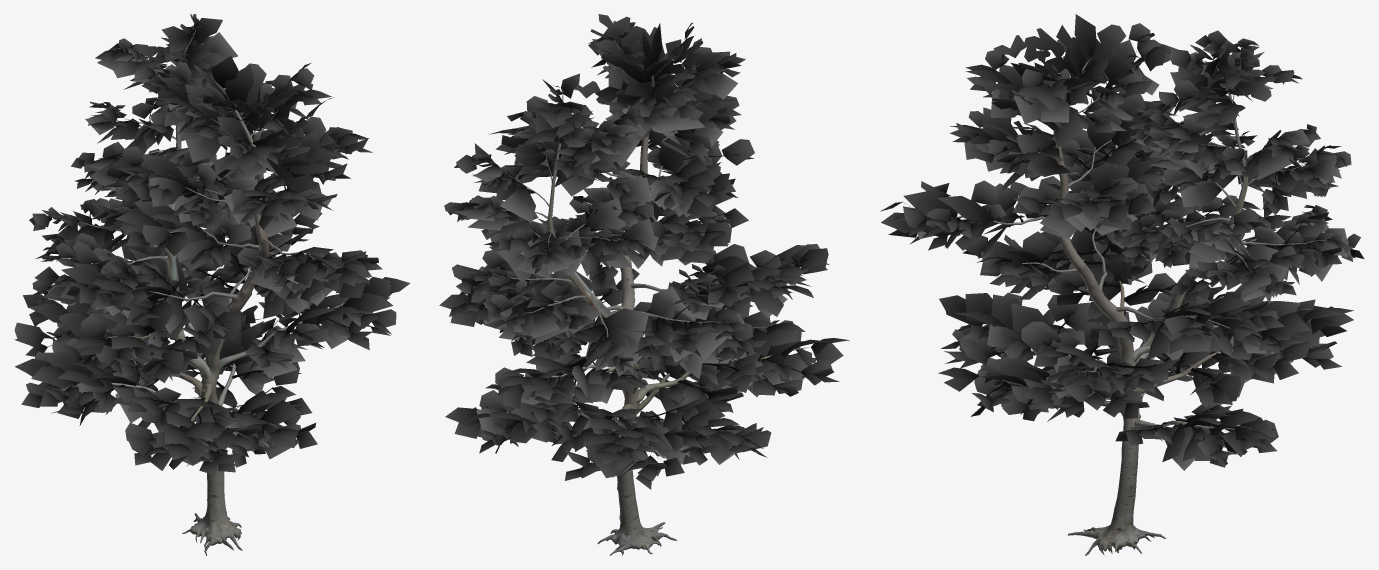
The model's file is beech_tree_05.FBX.
3 renders of one model, left to right at view 1: azimuth 30°, elevation 25°; view 2: azimuth 150°, elevation 25°; view 3: azimuth 270°, elevation 25°, orthographic. The views are drawn at different scales.
Visible parts, largest first — view 1: beech_tree_05_LOD0; view 2: beech_tree_05_LOD0; view 3: beech_tree_05_LOD0.
Boxes of the visible parts, x1=… form: beech_tree_05_LOD0: x1=14, y1=14, x2=410, y2=555; beech_tree_05_LOD0: x1=439, y1=14, x2=849, y2=555; beech_tree_05_LOD0: x1=880, y1=14, x2=1364, y2=555.
Size of what is drawn, in the model's own units: 794 by 1113 by 918.
